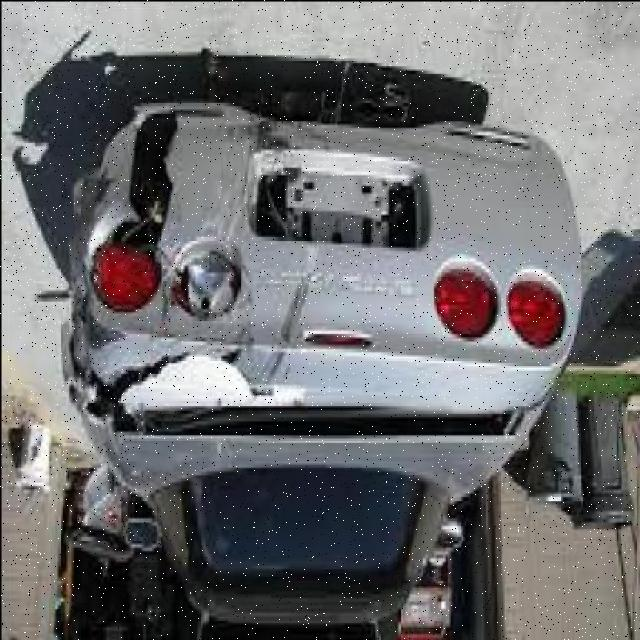damage: (58, 99, 319, 460)
